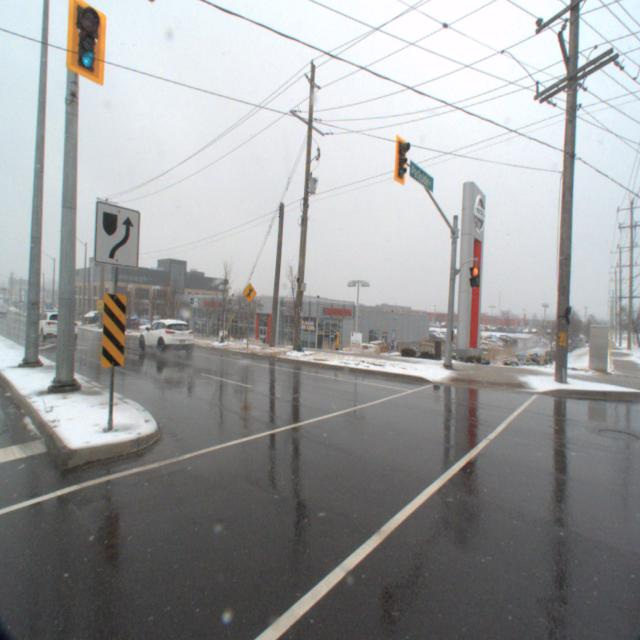Car: (135, 318, 202, 360), (26, 312, 78, 346)
